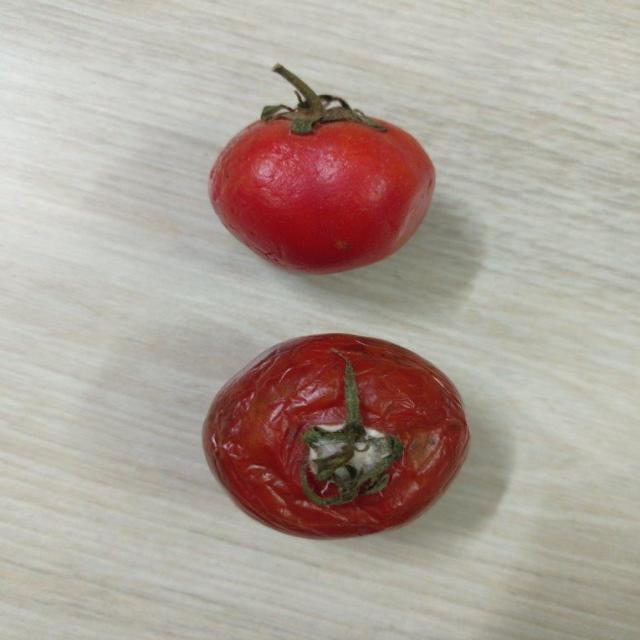Rotten: (206, 328, 468, 540)
overripe: (209, 103, 440, 275)
